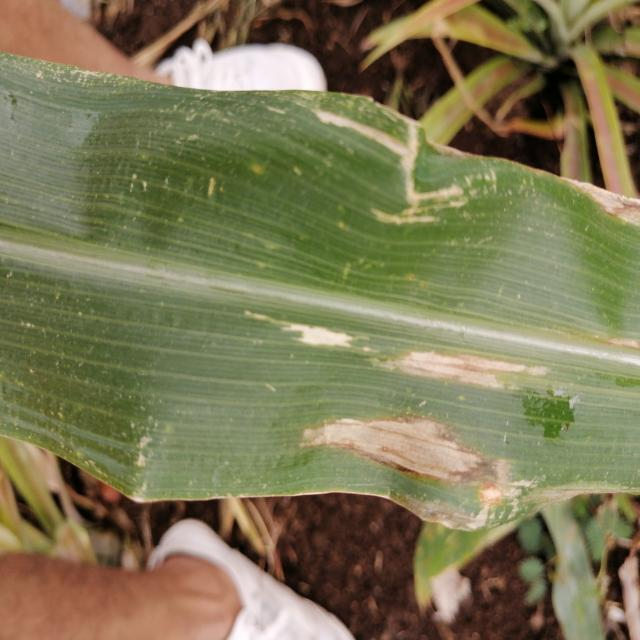Corn_Leaf_Blight: (0, 46, 640, 524)
